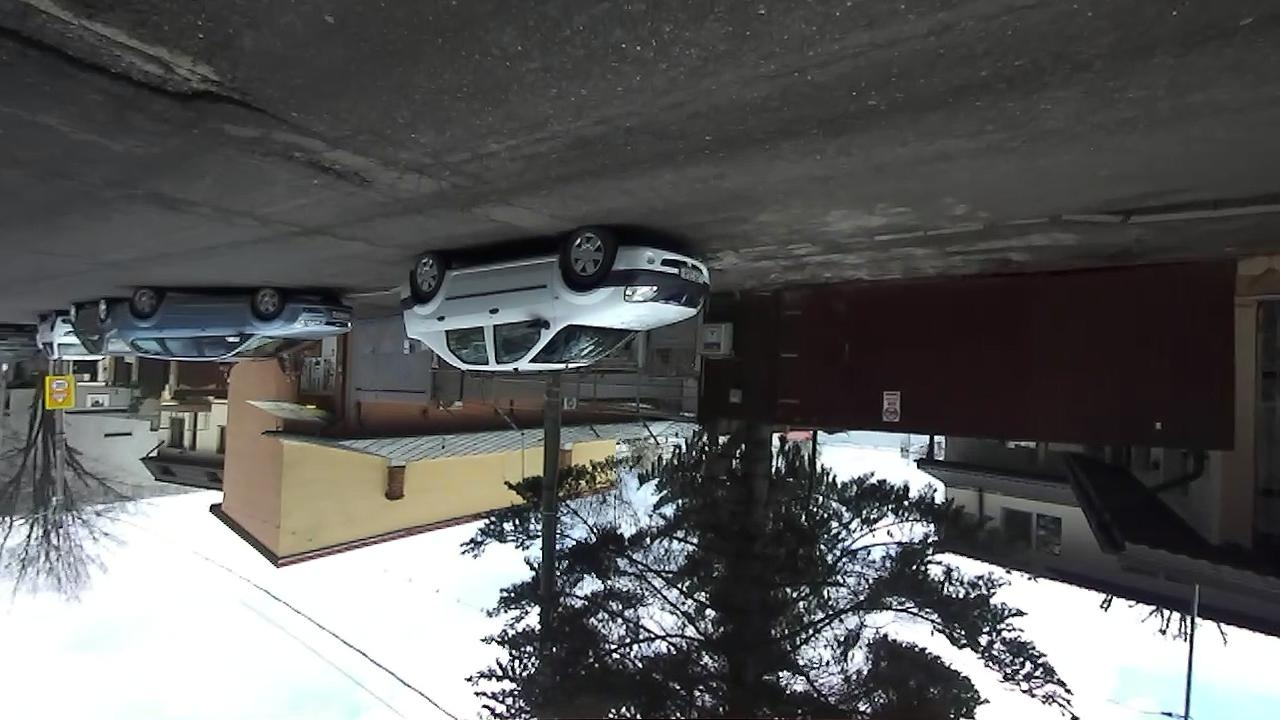pothole: (1, 1, 313, 132), (243, 141, 388, 197)
